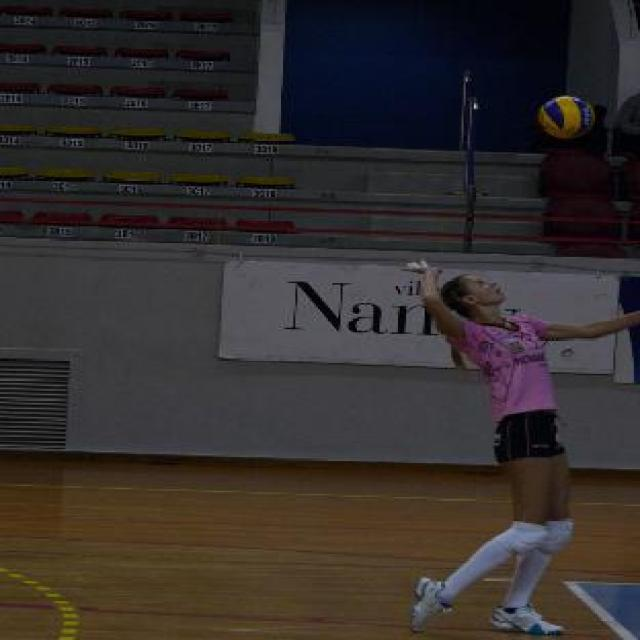volleyball: (539, 96, 595, 138)
